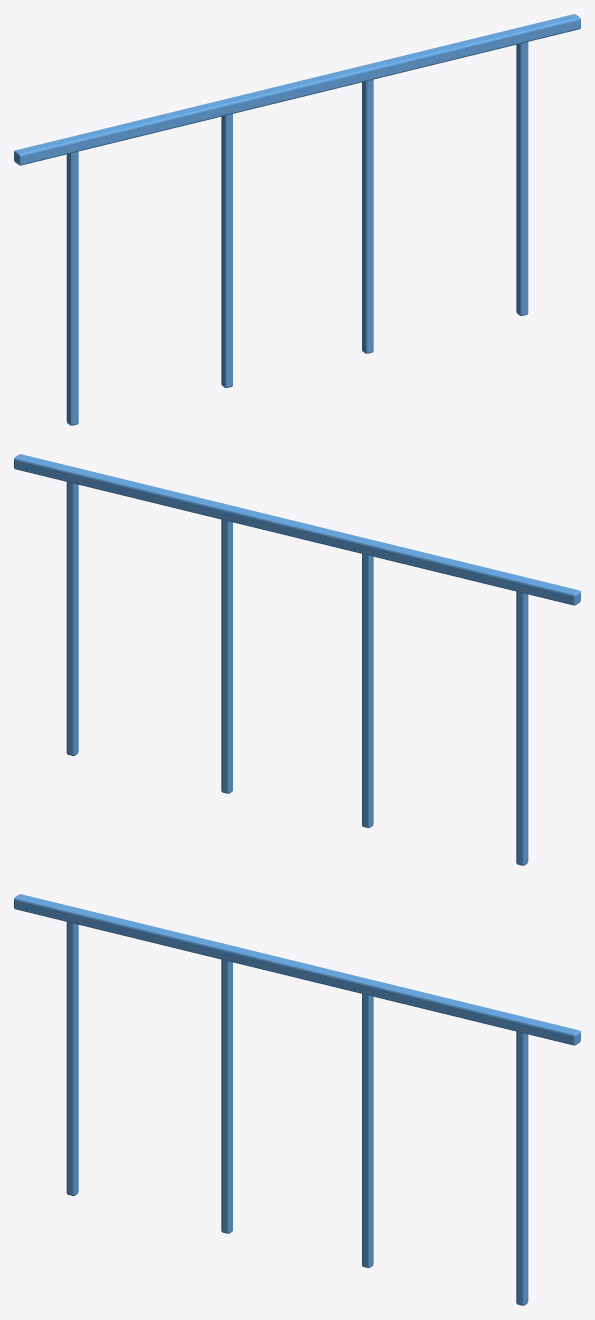
Rendered from PGK_Rail_2m_LOD0.fbx.
3 renders of one model, top to bottom at view 1: azimuth 30°, elevation 25°; view 2: azimuth 150°, elevation 25°; view 3: azimuth 330°, elevation 25°, orthographic.
Visible parts, largest first — view 1: RailTop, Bal, Bal.003, Bal.002, Bal.001; view 2: RailTop, Bal, Bal.003, Bal.002, Bal.001; view 3: RailTop, Bal.003, Bal, Bal.001, Bal.002.
Boxes of the visible parts, x1,y1,x2,y2 form: RailTop: (14, 14, 580, 165); Bal: (66, 151, 78, 425); Bal.003: (516, 42, 528, 315); Bal.002: (362, 79, 373, 353); Bal.001: (221, 114, 232, 387); RailTop: (14, 454, 580, 605); Bal: (516, 591, 528, 865); Bal.003: (66, 482, 78, 755); Bal.002: (221, 519, 232, 793); Bal.001: (362, 554, 373, 827); RailTop: (14, 894, 580, 1045); Bal.003: (516, 1031, 528, 1305); Bal: (66, 922, 78, 1195); Bal.001: (221, 959, 232, 1233); Bal.002: (362, 994, 373, 1267).
Size of the model in its own units: 2 by 0.97 by 0.04.
